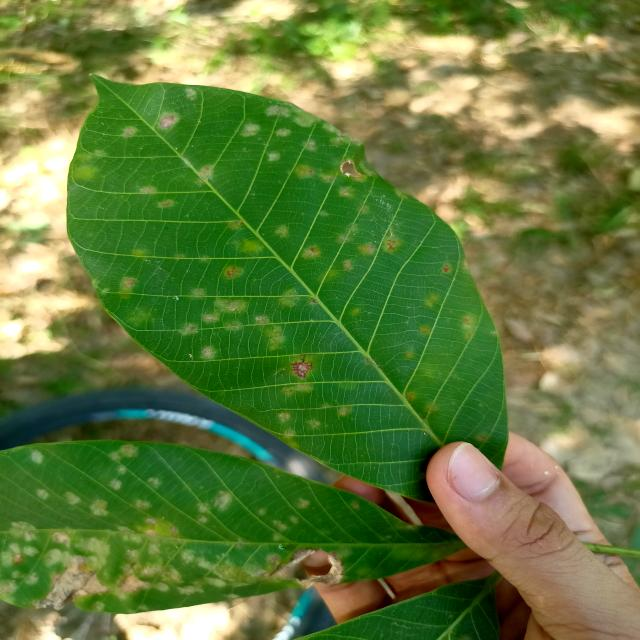Corynespora: (291, 353, 313, 378)
Leaf-Blight: (32, 559, 106, 609), (301, 552, 344, 589), (282, 547, 319, 568), (121, 574, 149, 594)
